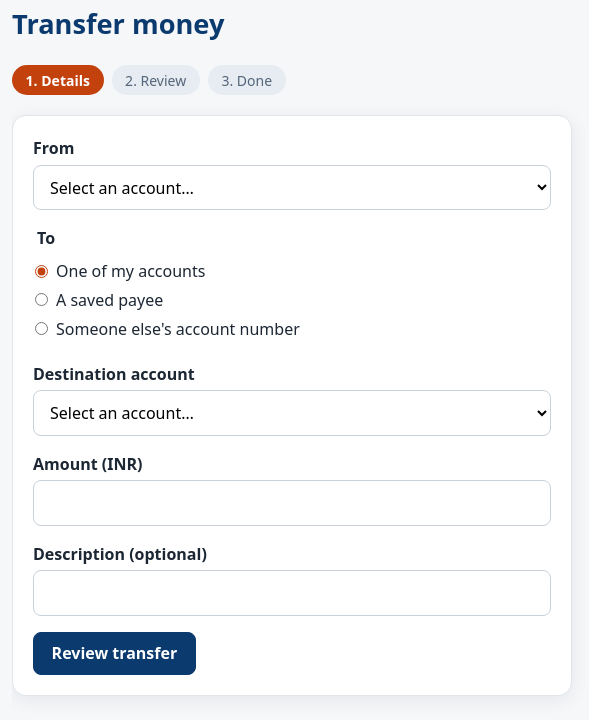
TransferPage › rejects invalid amounts before anything is sent
The width and height of the screenshot is (589, 720).
Select "Savings •••• 0001 — ₹500.00" in the dropdown labelled "From" at (292, 188), box [33,165,551,210]
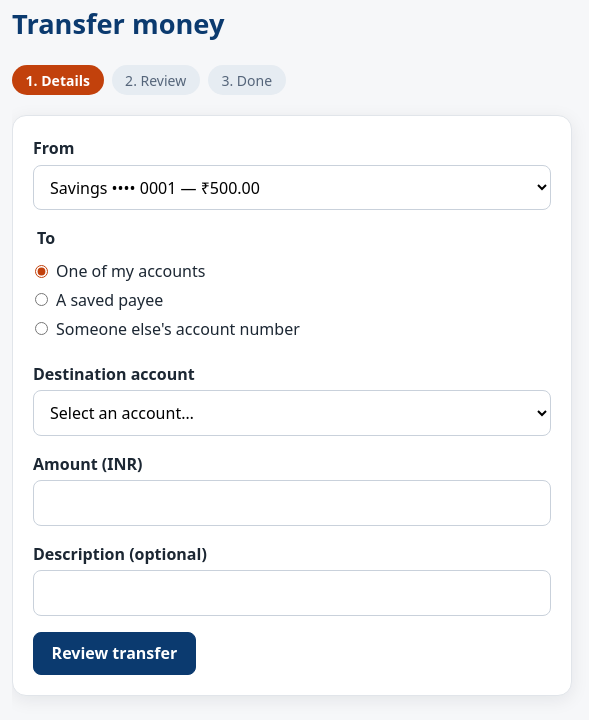
Select "Current •••• 0002" in the dropdown labelled "Destination account" at (292, 413), box [33,390,551,436]
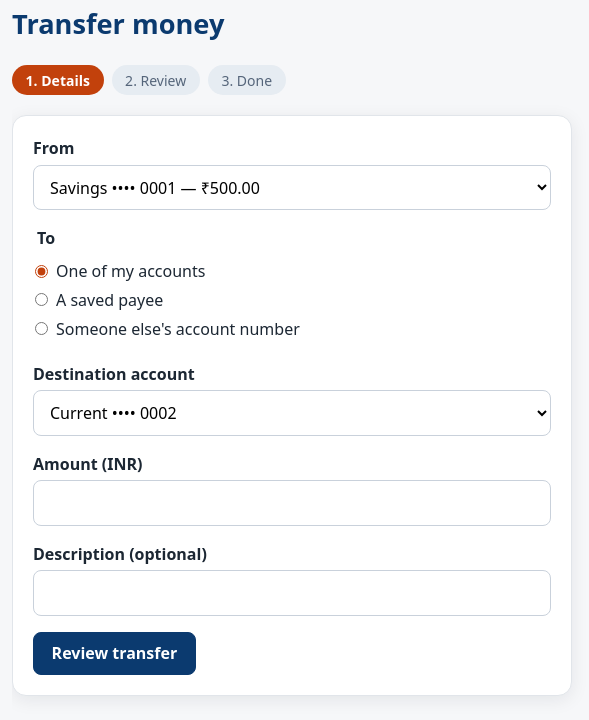
Type "10.005" into the field labelled "Amount (INR)" at (292, 503), box [33,480,551,526]
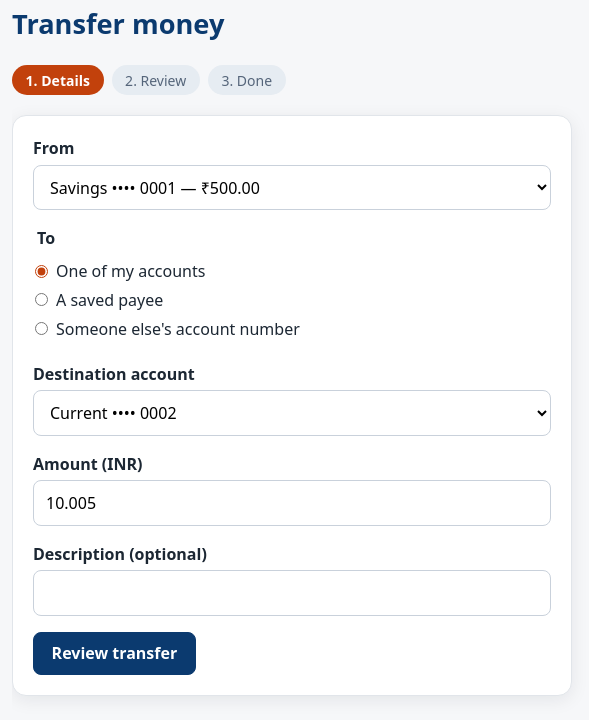
Click the button "Review transfer" at (114, 653), box [33,632,196,675]
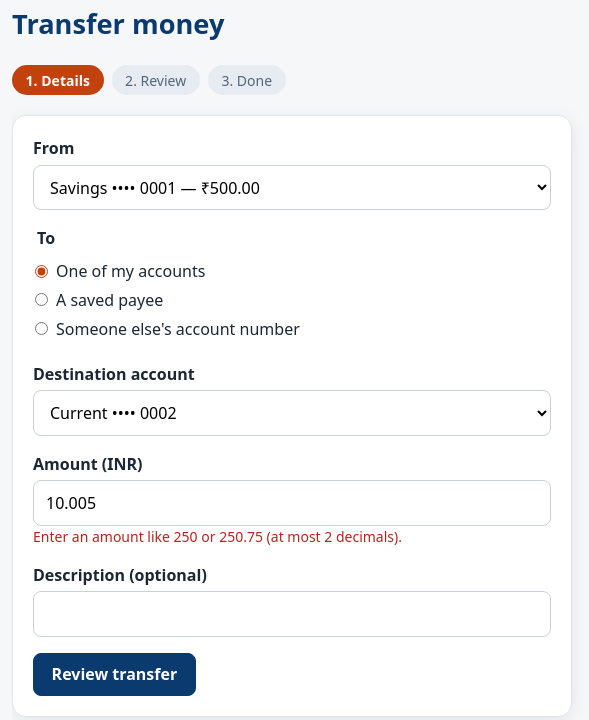
expect the text "Enter an amount like 250 or 250.75 (at most 2 decimals)." is shown: met, box [33,526,402,546]
